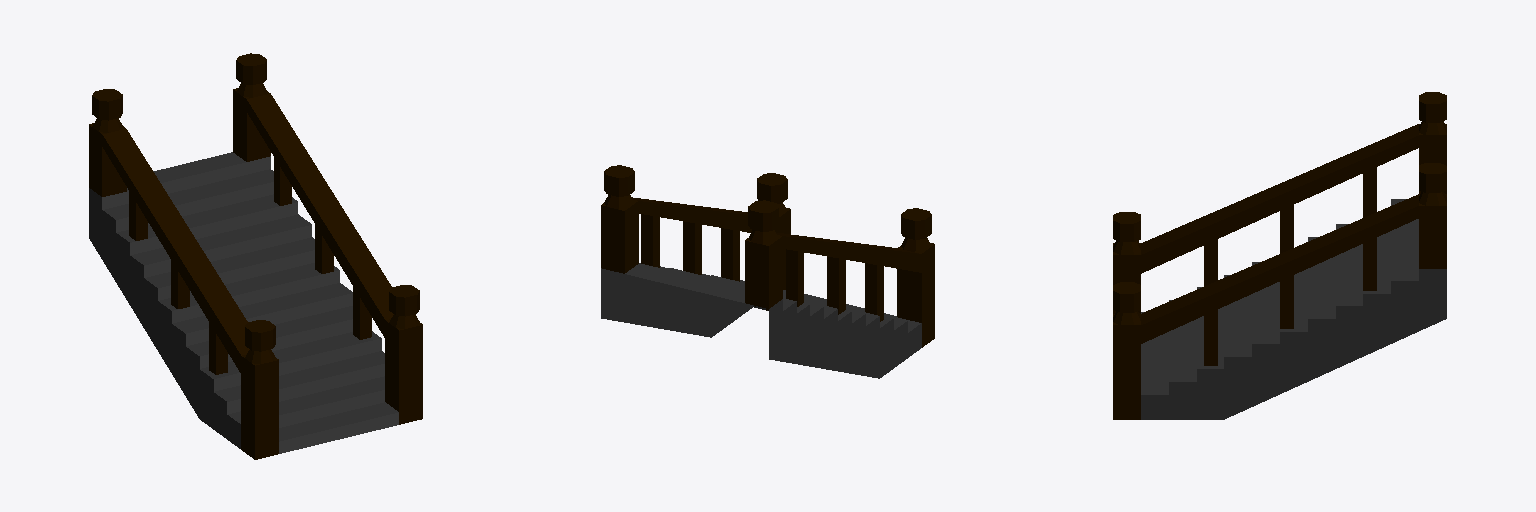
The model's file is stairs.obj.
The picture shows the model from 3 angles: view 1: azimuth 30°, elevation 25°; view 2: azimuth 150°, elevation 25°; view 3: azimuth 270°, elevation 25°; orthographic projection.
Bounding box in the file's own units: 224 × 312 × 384.